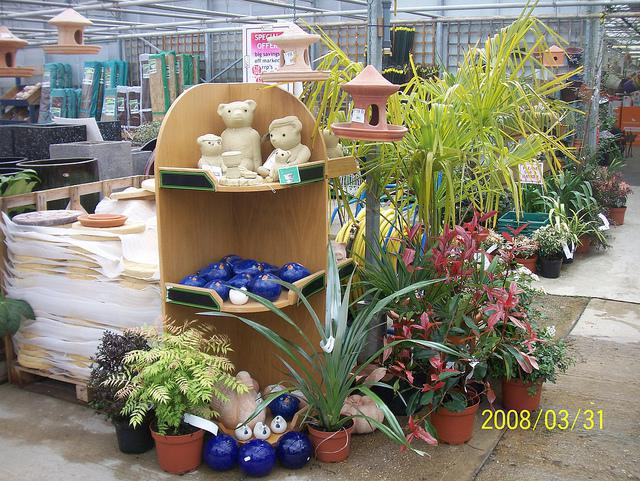Matera: (370, 25, 542, 380), (236, 261, 379, 467), (382, 247, 493, 458), (137, 311, 233, 475), (95, 325, 167, 460), (495, 312, 565, 420), (561, 184, 602, 262), (504, 216, 538, 278), (603, 169, 631, 228), (537, 224, 565, 275)
